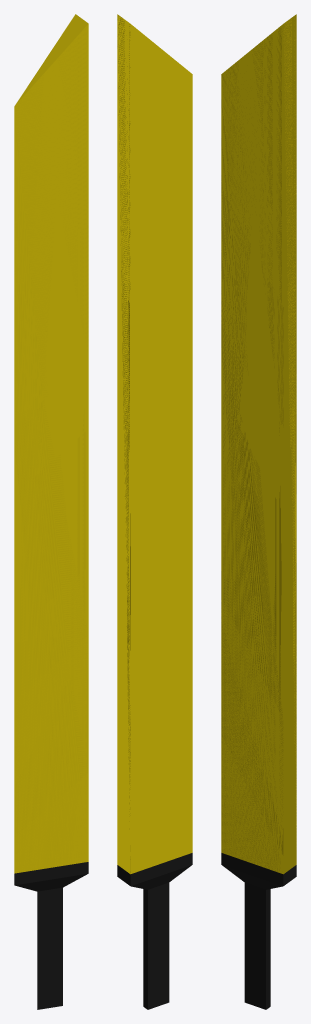
File: BasicSword.glb
3 renders of one model, left to right at view 1: azimuth 30°, elevation 25°; view 2: azimuth 210°, elevation 25°; view 3: azimuth 330°, elevation 25°, orthographic.
Parts seen in each view (by area): view 1: Sword; view 2: Sword; view 3: Sword.
Boxes of the visible parts, bbox=[...] form: Sword: bbox=[14, 14, 88, 1009]; Sword: bbox=[117, 14, 192, 1009]; Sword: bbox=[221, 14, 296, 1009].
Size of the model in its own units: 0.6 by 8.28 by 0.2.
